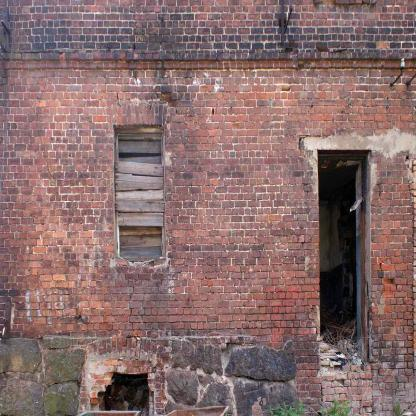Building Outline: (0, 1, 416, 416)
Door: (317, 150, 370, 374)
Facade: (0, 1, 416, 416)
Ground Floor: (0, 1, 416, 416)
Window: (113, 125, 165, 261)
